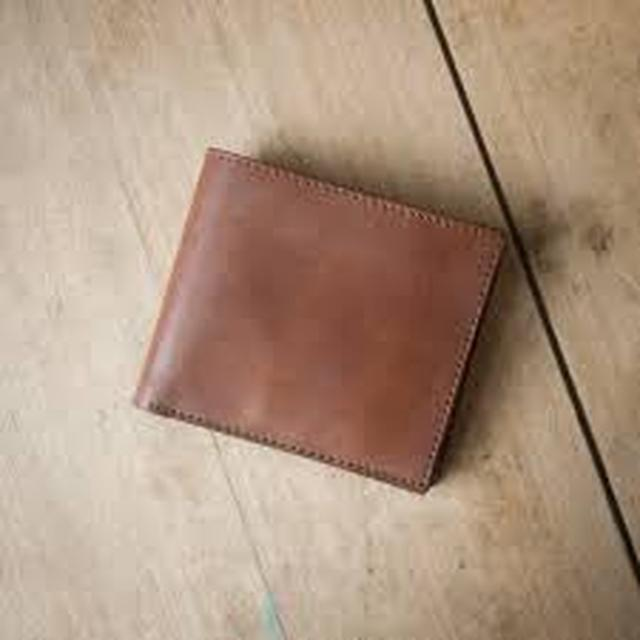wallet: (184, 125, 462, 499)
